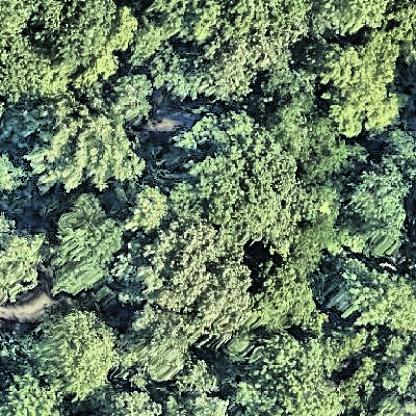tree-top: (17, 74, 160, 198), (145, 3, 279, 106), (130, 212, 255, 315), (182, 114, 294, 226), (237, 330, 382, 416), (310, 33, 411, 145), (36, 189, 127, 302), (25, 311, 125, 398), (325, 251, 416, 332), (29, 1, 118, 72), (352, 144, 416, 235), (251, 255, 323, 334), (128, 314, 201, 381), (1, 32, 68, 100), (1, 209, 47, 308), (285, 1, 384, 37), (103, 72, 160, 129), (4, 371, 67, 416), (307, 186, 340, 249), (386, 1, 416, 70), (103, 386, 166, 416), (176, 359, 222, 395), (108, 3, 141, 53), (169, 395, 233, 416)
